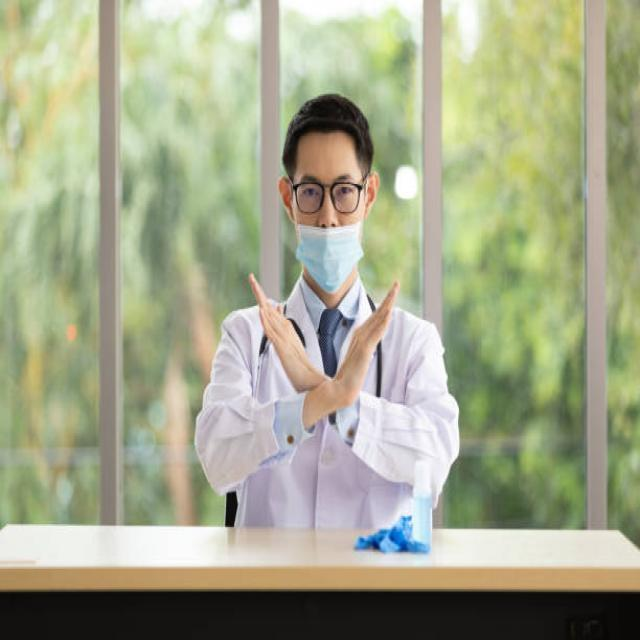hairnet: (294, 212, 363, 294)
